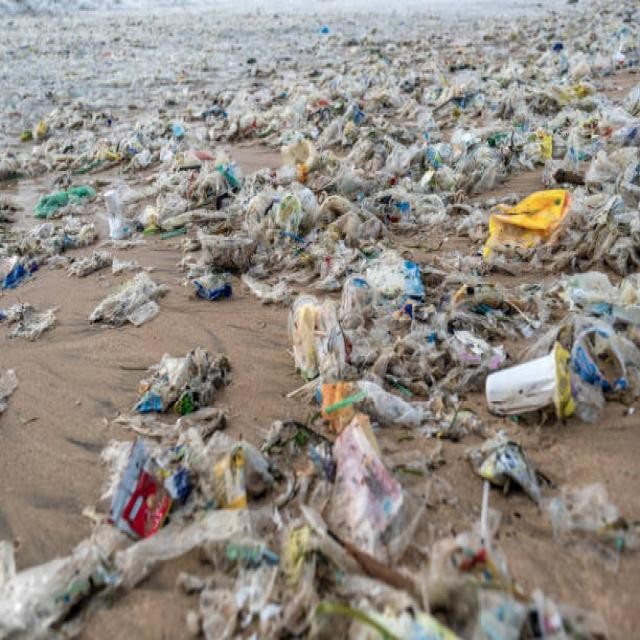trash: (25, 38, 565, 522)
